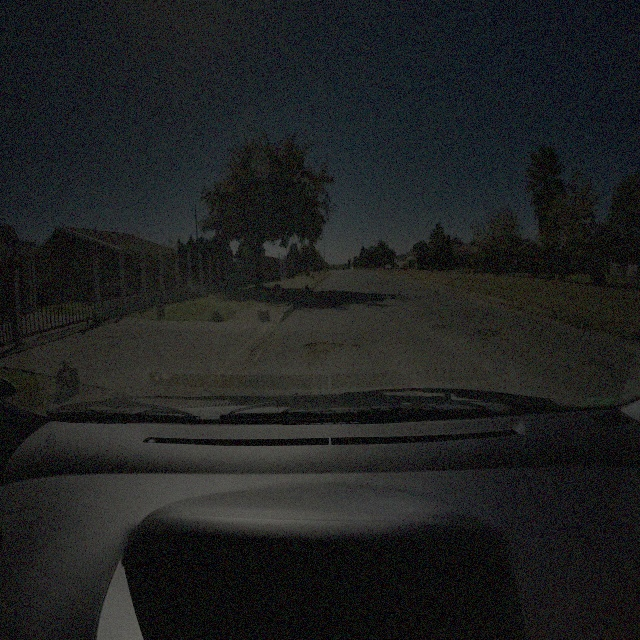pothole: (301, 338, 343, 356), (432, 321, 453, 332), (478, 328, 499, 338)
